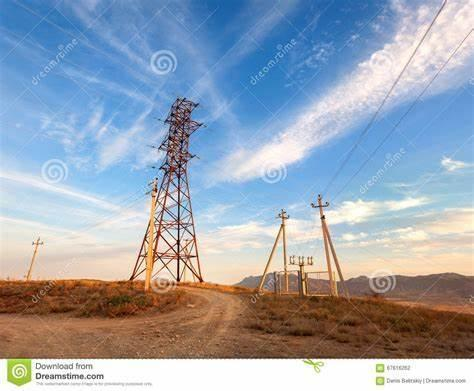power_tower: (127, 92, 216, 288)
